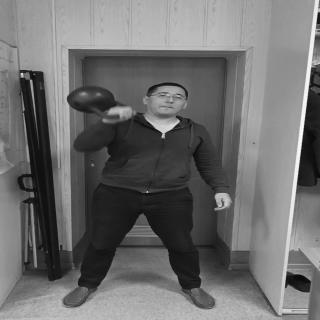kettlebell: (69, 87, 134, 120)
